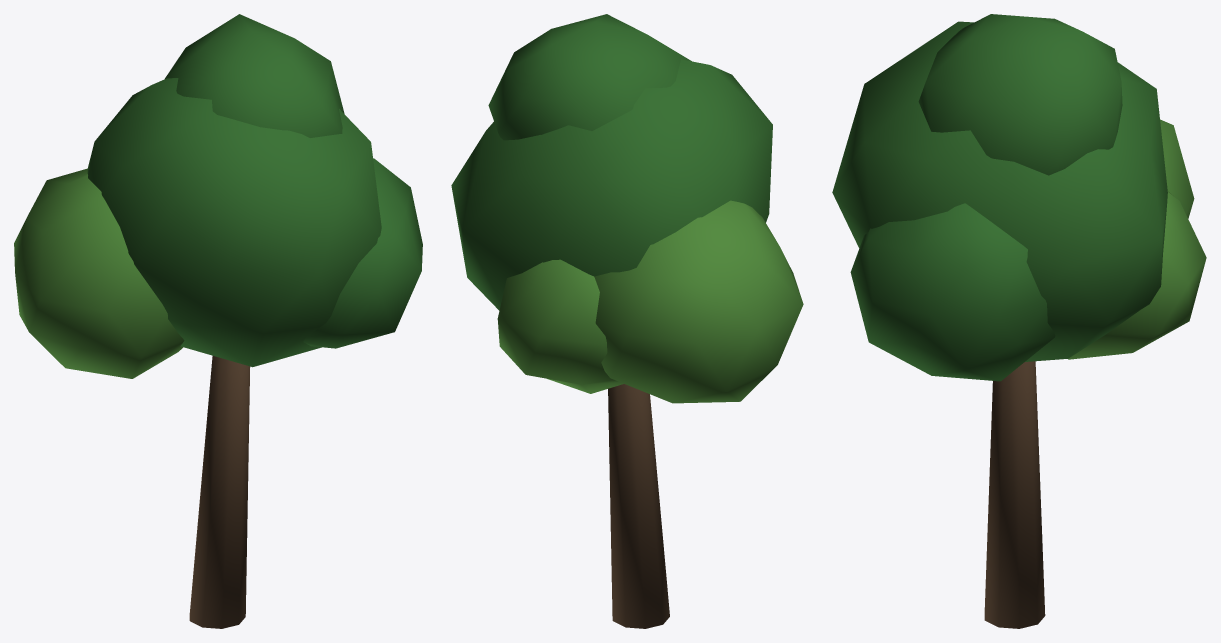
File: SM_SchoolyardTree_Realistic.obj
3 renders of one model, left to right at view 1: azimuth 30°, elevation 25°; view 2: azimuth 150°, elevation 25°; view 3: azimuth 270°, elevation 25°, orthographic. The views are drawn at different scales.
Parts seen in each view (by area): view 1: SM_SchoolyardTree; view 2: SM_SchoolyardTree; view 3: SM_SchoolyardTree.
Part boxes in pixels (box(x1,y1,x2,y2)): SM_SchoolyardTree: box(14, 14, 422, 628); SM_SchoolyardTree: box(451, 14, 803, 628); SM_SchoolyardTree: box(832, 14, 1206, 628).
Size of the model in its own units: 2.17 by 3.51 by 1.92.
